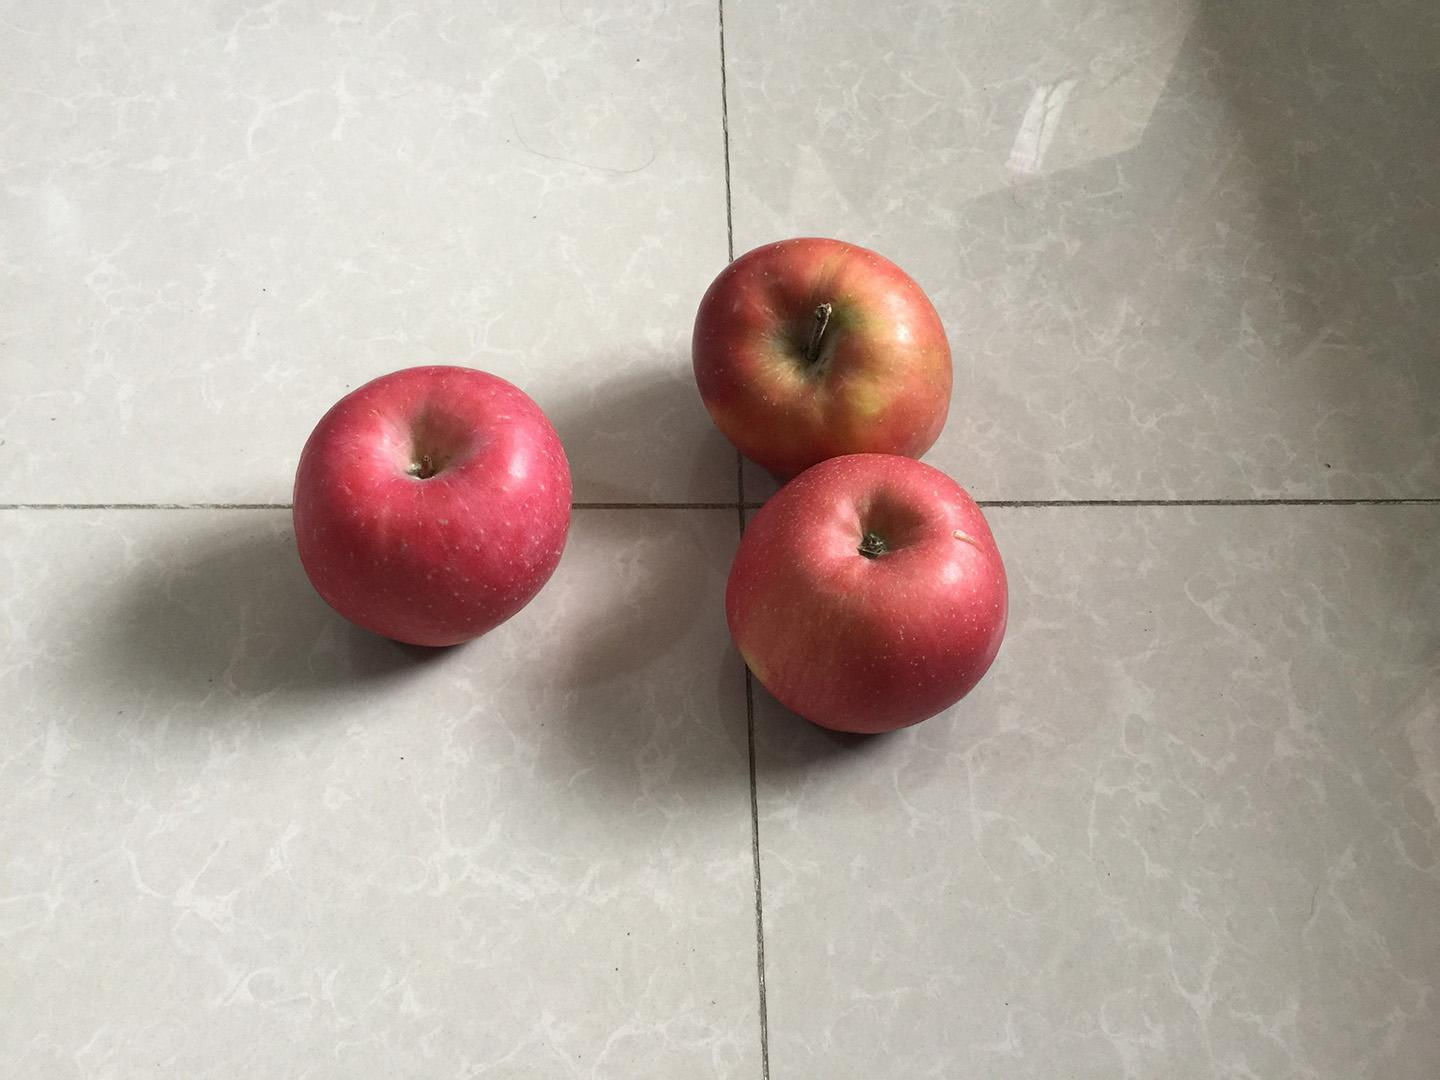apple: (283, 357, 581, 655), (722, 444, 1015, 739), (680, 229, 966, 486)
